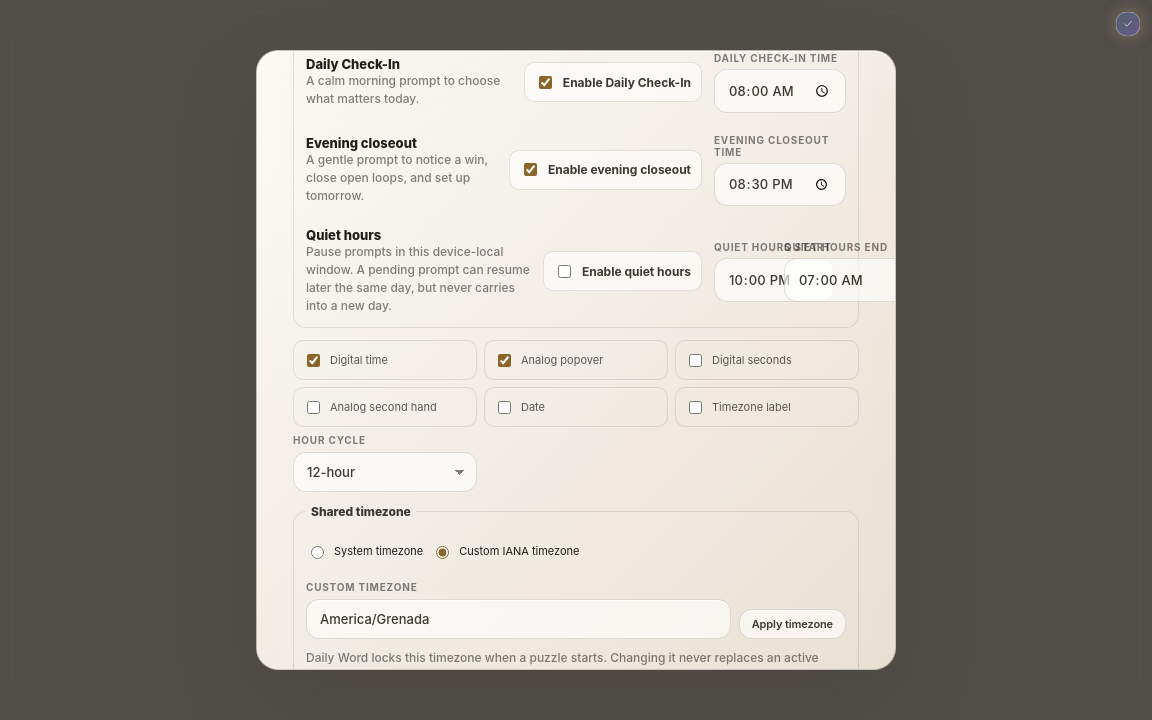
Scenario: Settings information architecture › persists clock controls and rejects an invalid custom timezone without replacing the last valid value
(page scrolled)
Click the checkbox labelled "Digital seconds": (696,360) top-left (689, 354), bottom-right (702, 367)
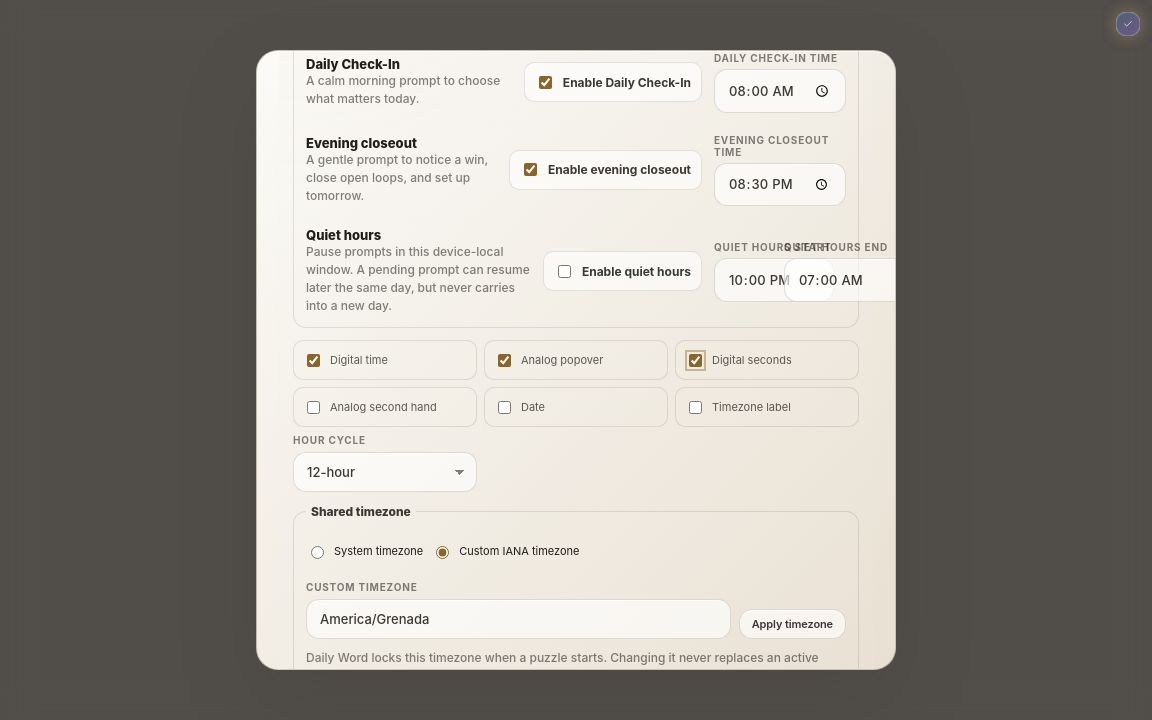
Select "24-hour" in the dropdown labelled "Hour cycle": (385,472) top-left (293, 452), bottom-right (477, 492)
(page scrolled)
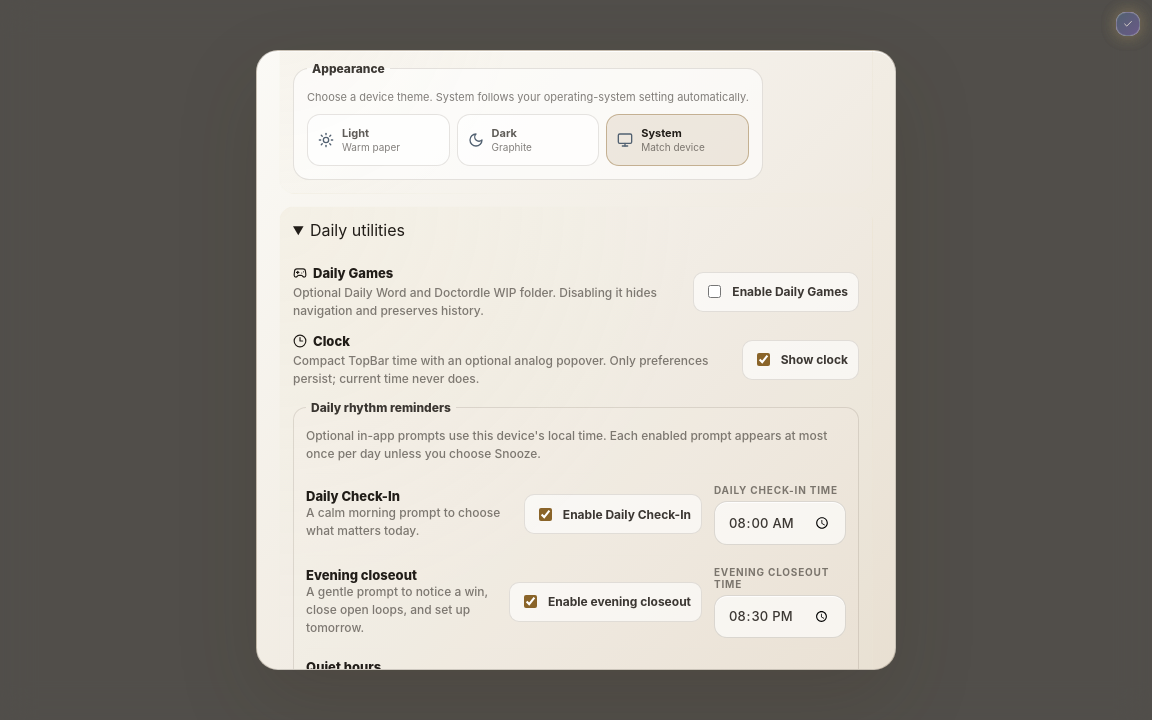
Click the checkbox labelled "Show clock": (763,360) top-left (757, 353), bottom-right (770, 366)
(page scrolled)
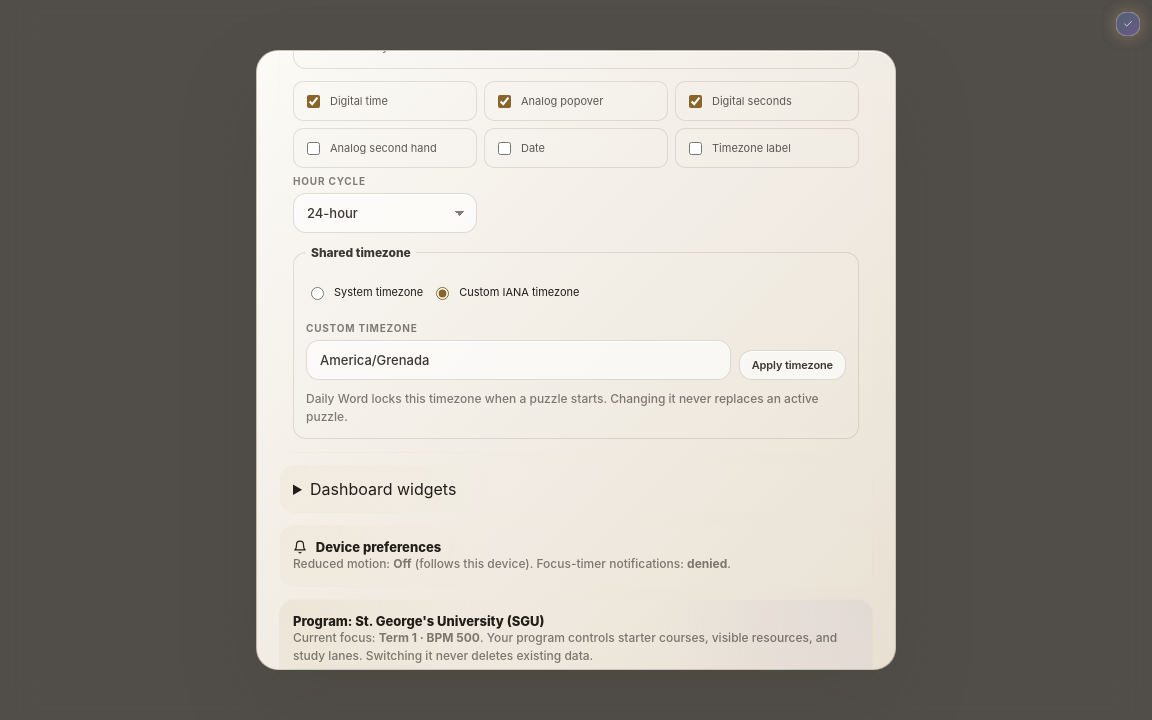
Replace the text in the field labelled "Custom timezone" with "Mars/Olympus": (518,360) top-left (306, 340), bottom-right (731, 380)
Click the button "Apply timezone": (792,365) top-left (739, 350), bottom-right (846, 380)
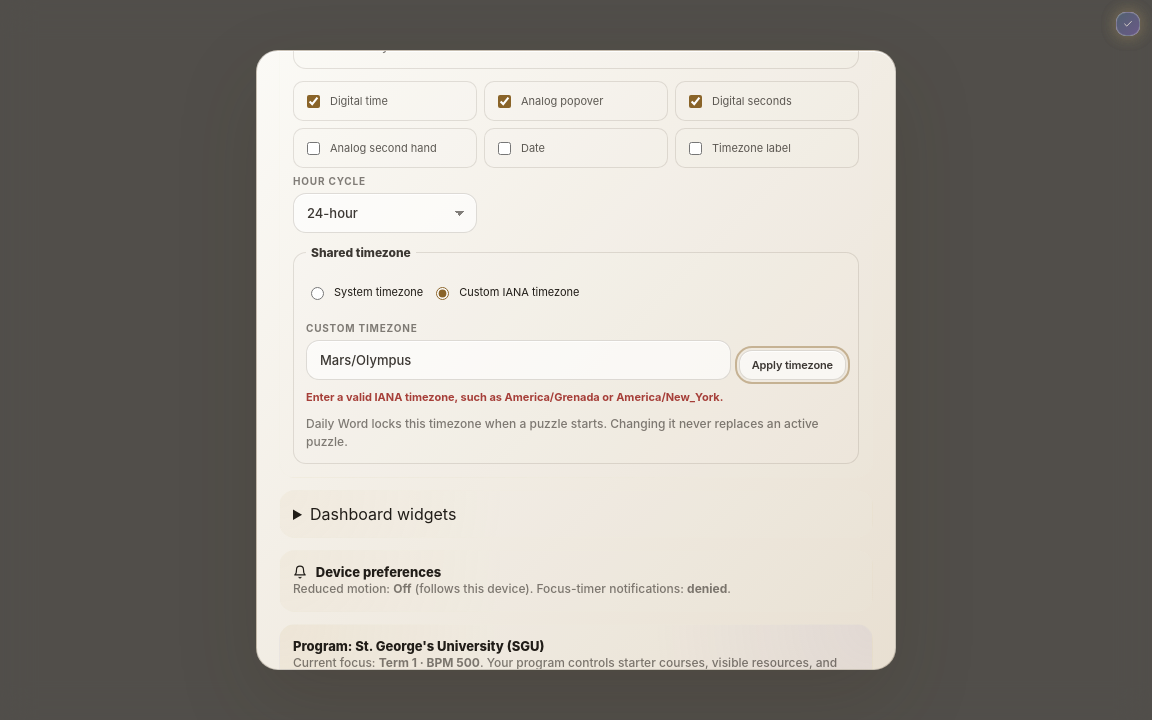
Result: the message shows "valid IANA timezone" at top-left (306, 390), bottom-right (723, 404)
Replace the text in the field labelled "Custom timezone" with "America/New_York": (518,360) top-left (306, 340), bottom-right (731, 380)
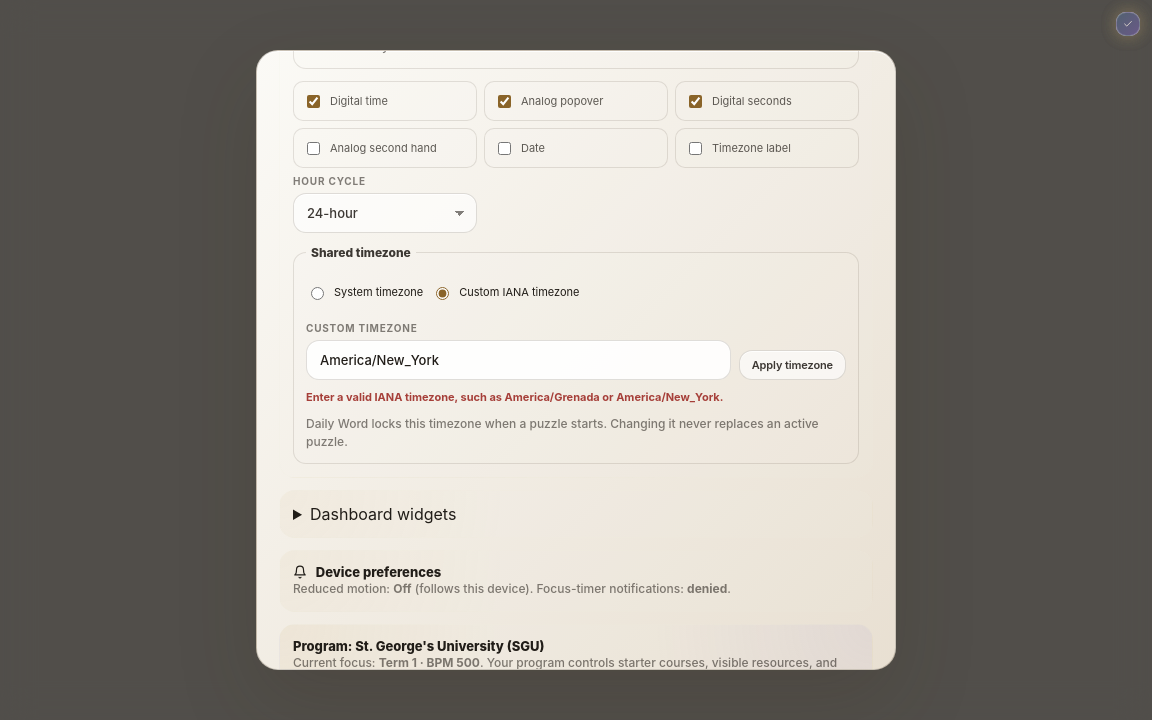
Click the button "Apply timezone": (792,365) top-left (739, 350), bottom-right (846, 380)
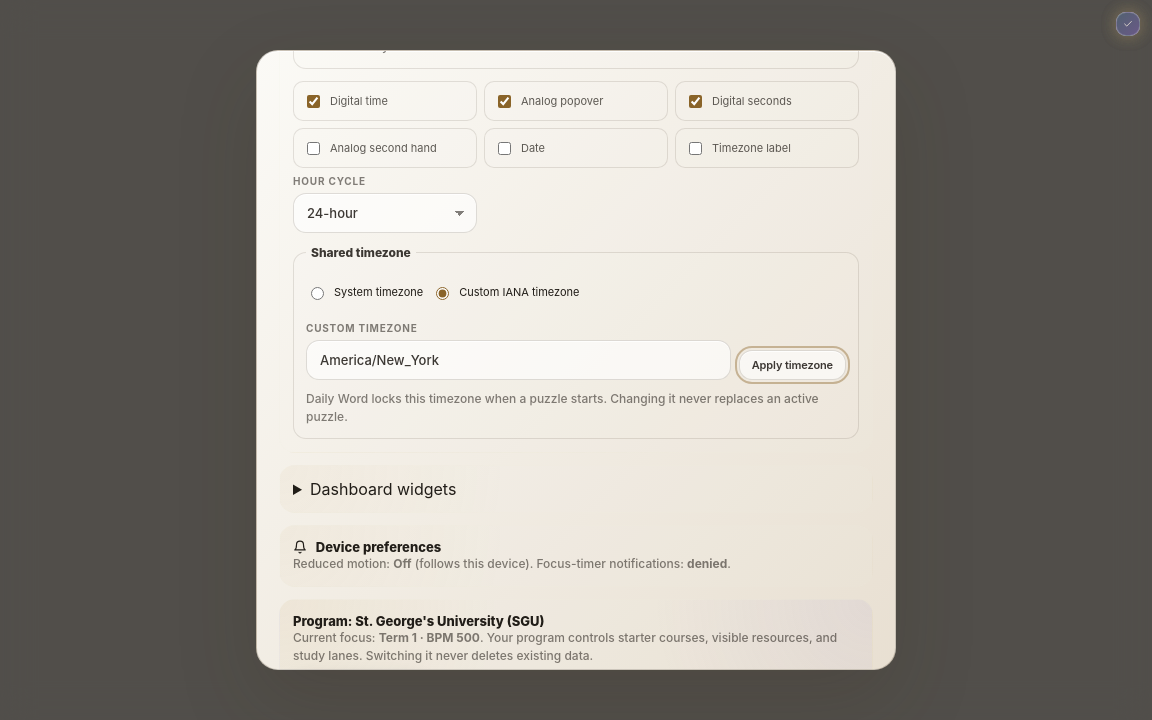
Result: the message "Enter a valid IANA timezone, such as America/Grenada or America/New_York." is gone
